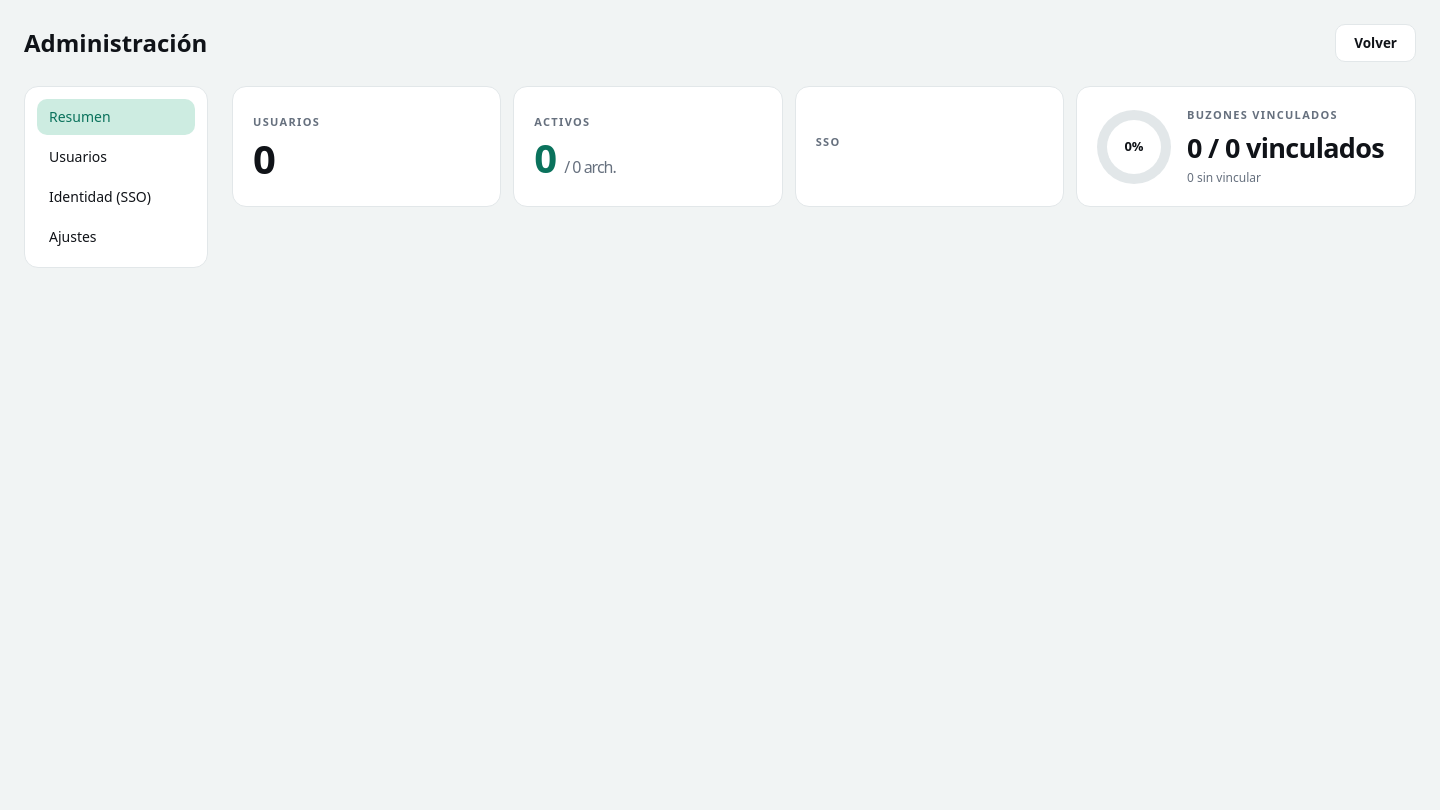
Test: AdminPage SSO config panel › shows a per-field hint for an invalid issuer without sending the request
The image size is (1440, 810).
Step 1. Click the button "Identidad (SSO)" → (116, 197), box [37,179,195,215]
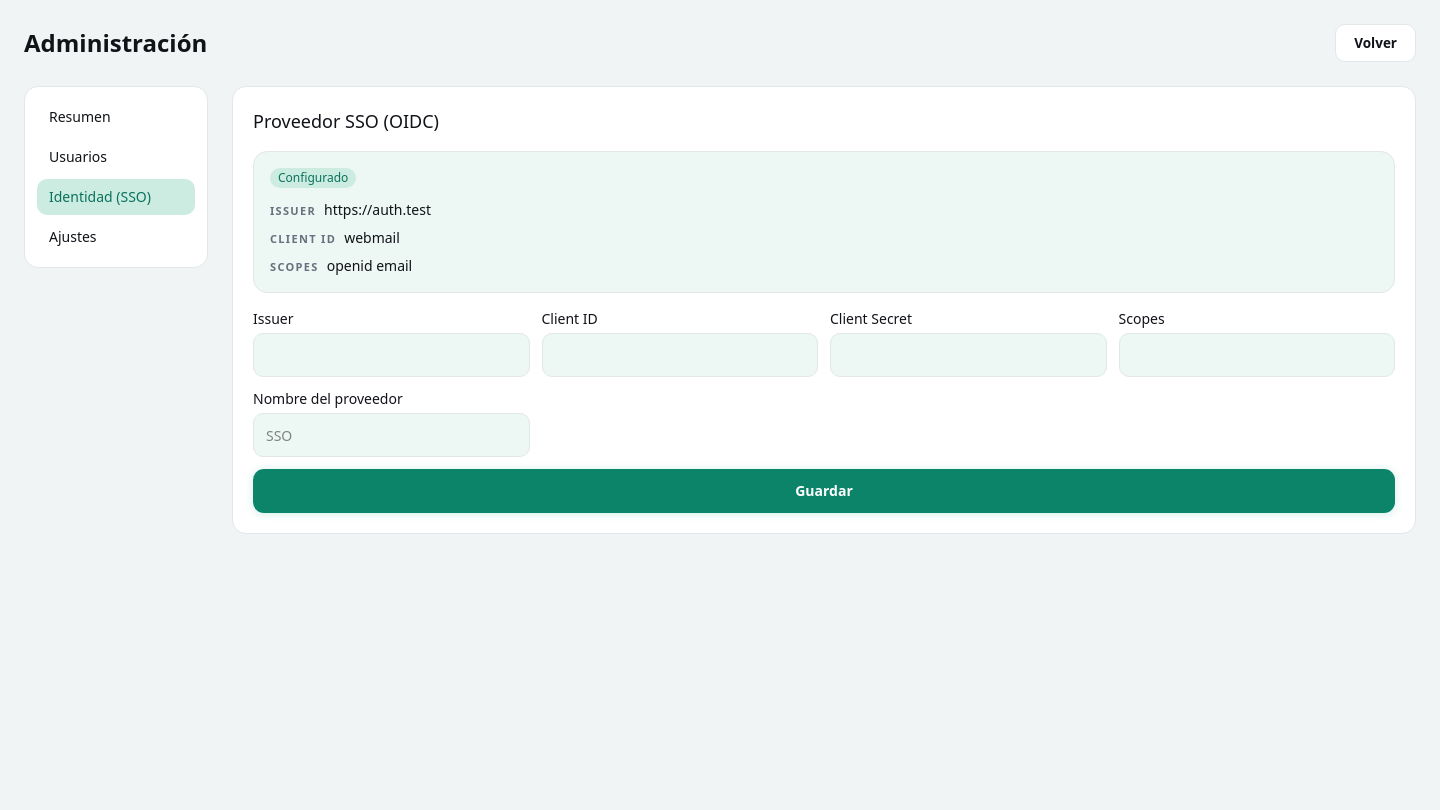
Now the text "Configurado" is shown, box [270,168,356,188]
Step 2. Type "not-a-url" into the field labelled "Issuer" → (391, 355), box [253,333,530,377]
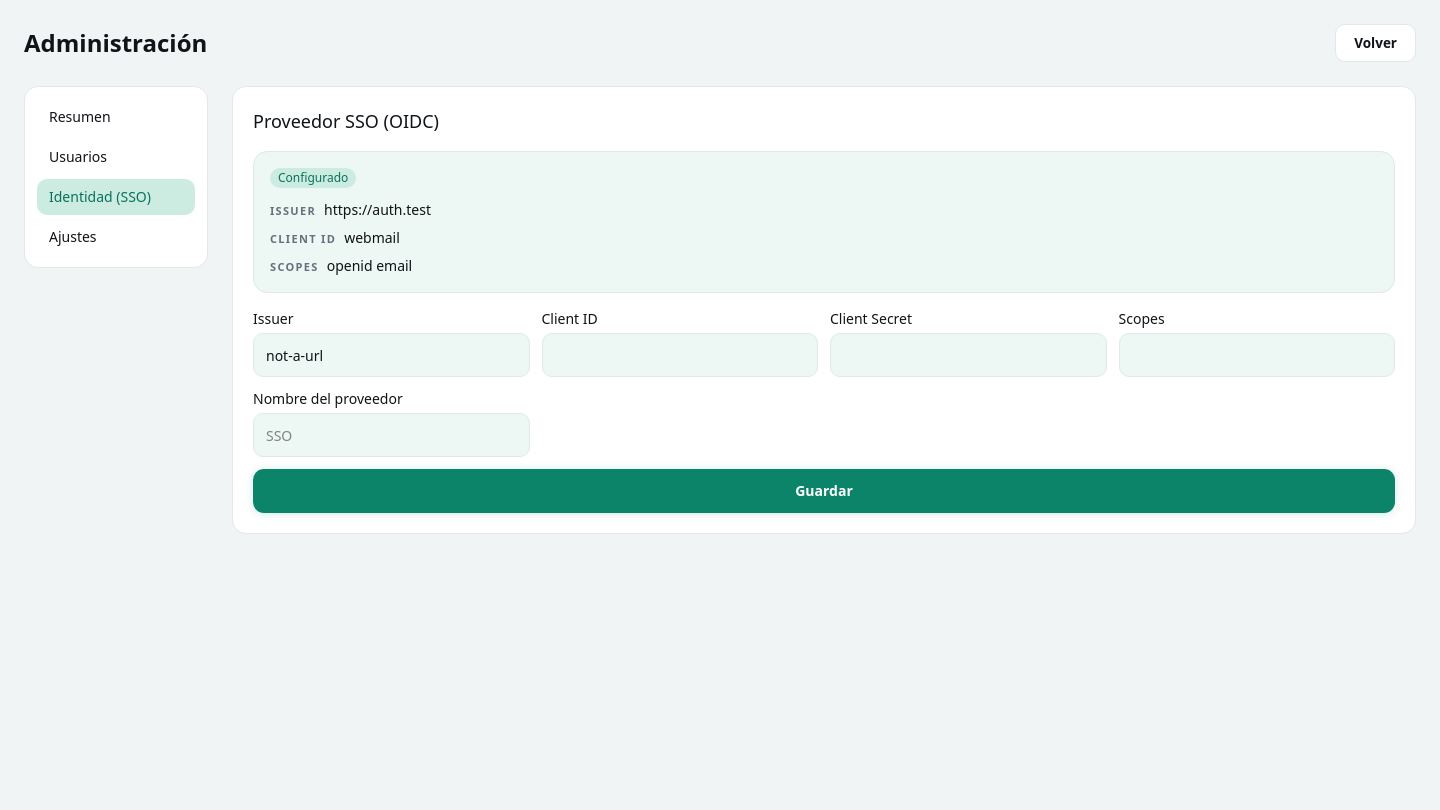
Step 3. Click the button "Guardar" → (824, 491), box [253,469,1395,513]
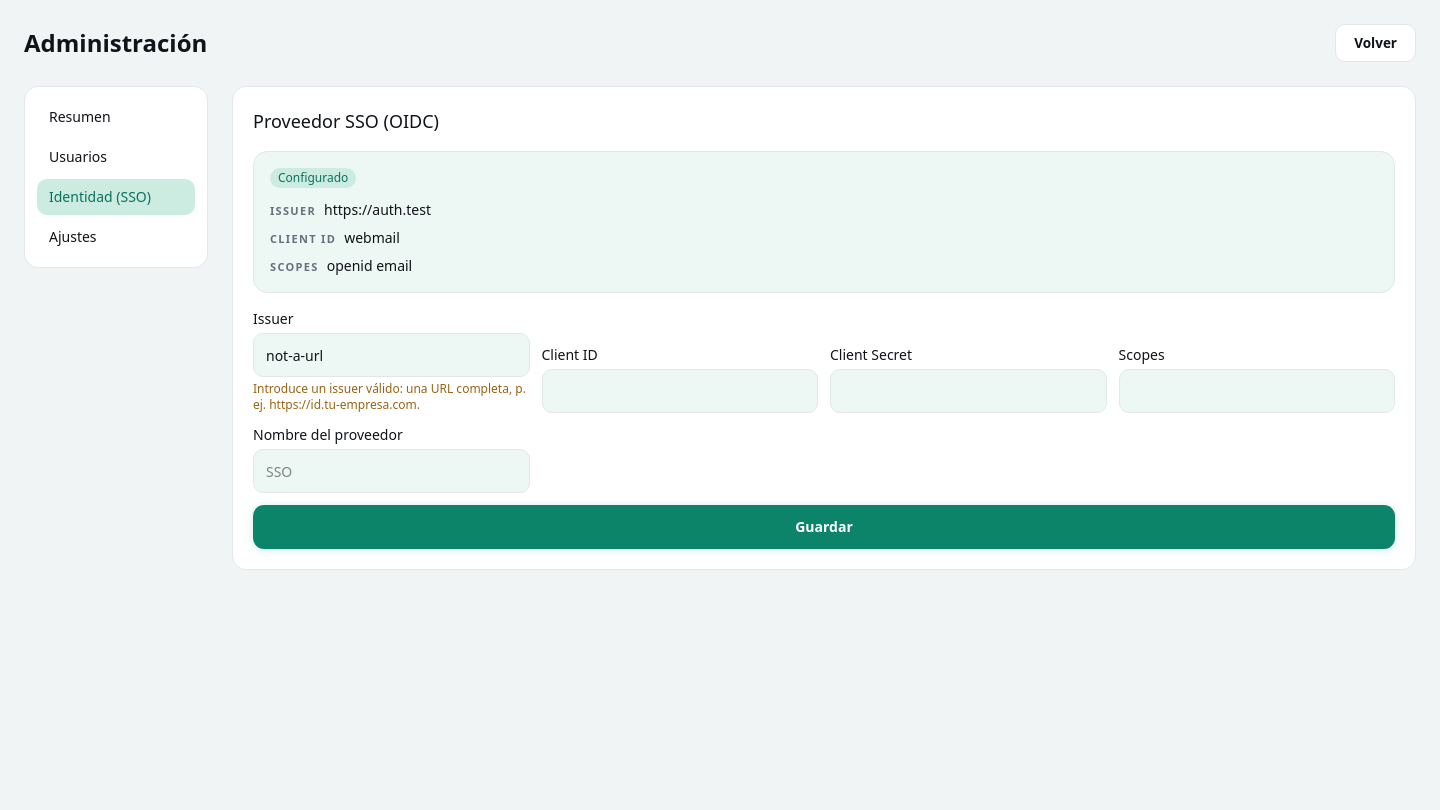
Now the text "Introduce un issuer válido: una URL completa, p. ej. https://id.tu-empresa.com." is shown, box [253,381,530,413]
